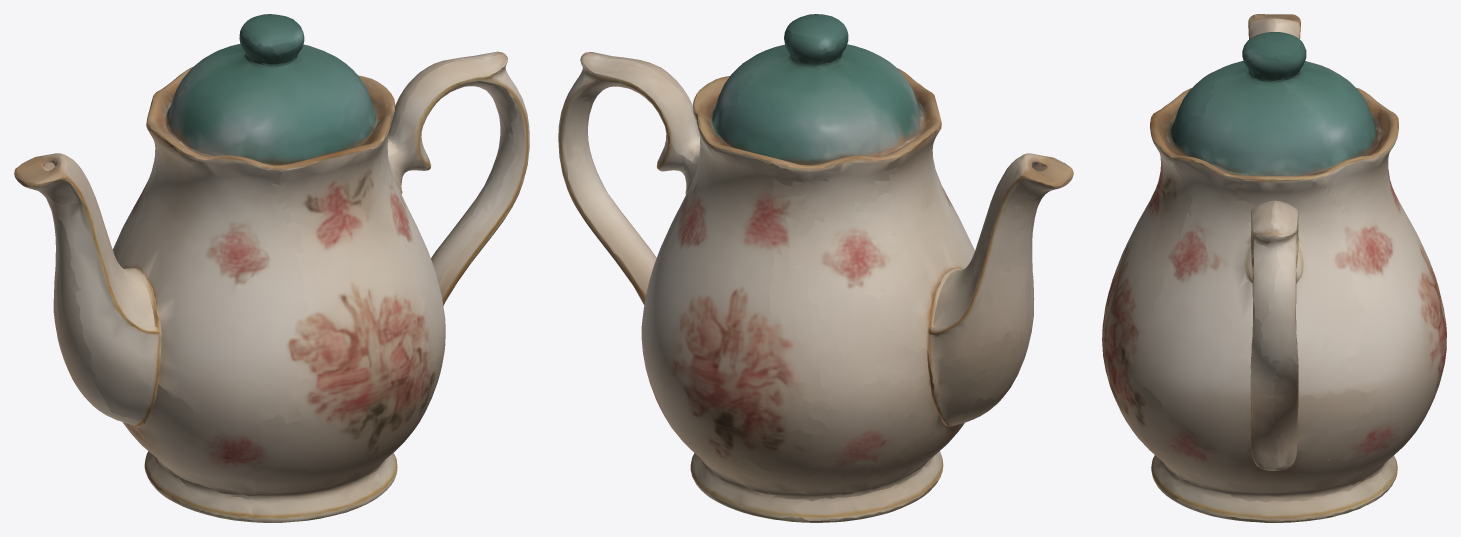
Rendered from unified--teapot.glb.
3 renders of one model, left to right at view 1: azimuth 30°, elevation 25°; view 2: azimuth 150°, elevation 25°; view 3: azimuth 270°, elevation 25°, orthographic. The views are drawn at different scales.
Parts seen in each view (by area): view 1: teapot-1; view 2: teapot-1; view 3: teapot-1.
Part boxes in pixels (<box>): teapot-1: <box>14,14,529,522</box>; teapot-1: <box>558,14,1073,522</box>; teapot-1: <box>1102,14,1446,522</box>.
Size of the model in its own units: 0.2801 by 0.2392 by 0.1714.
Materials: 1 (1 with a texture image).
